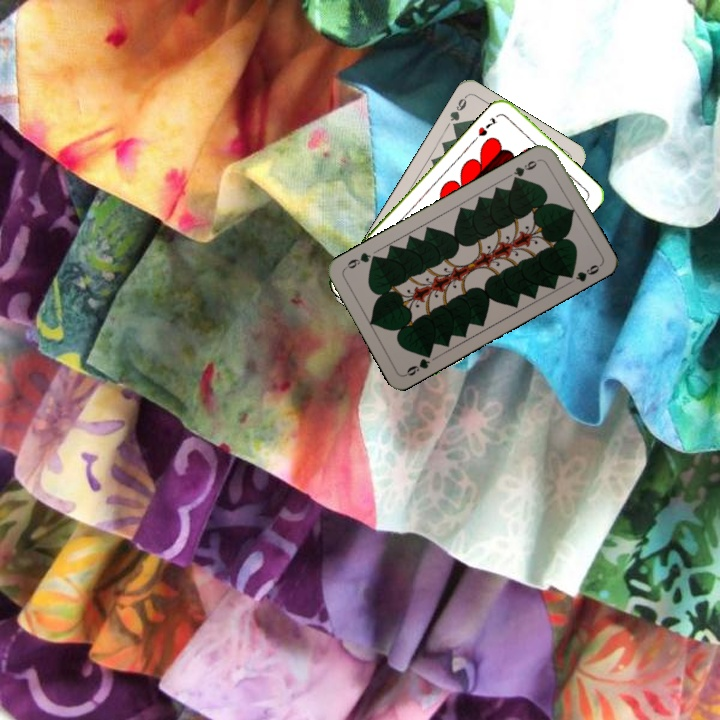G9: (401, 347, 435, 379), (509, 155, 543, 184), (446, 92, 469, 132)
H7: (474, 113, 499, 139)
